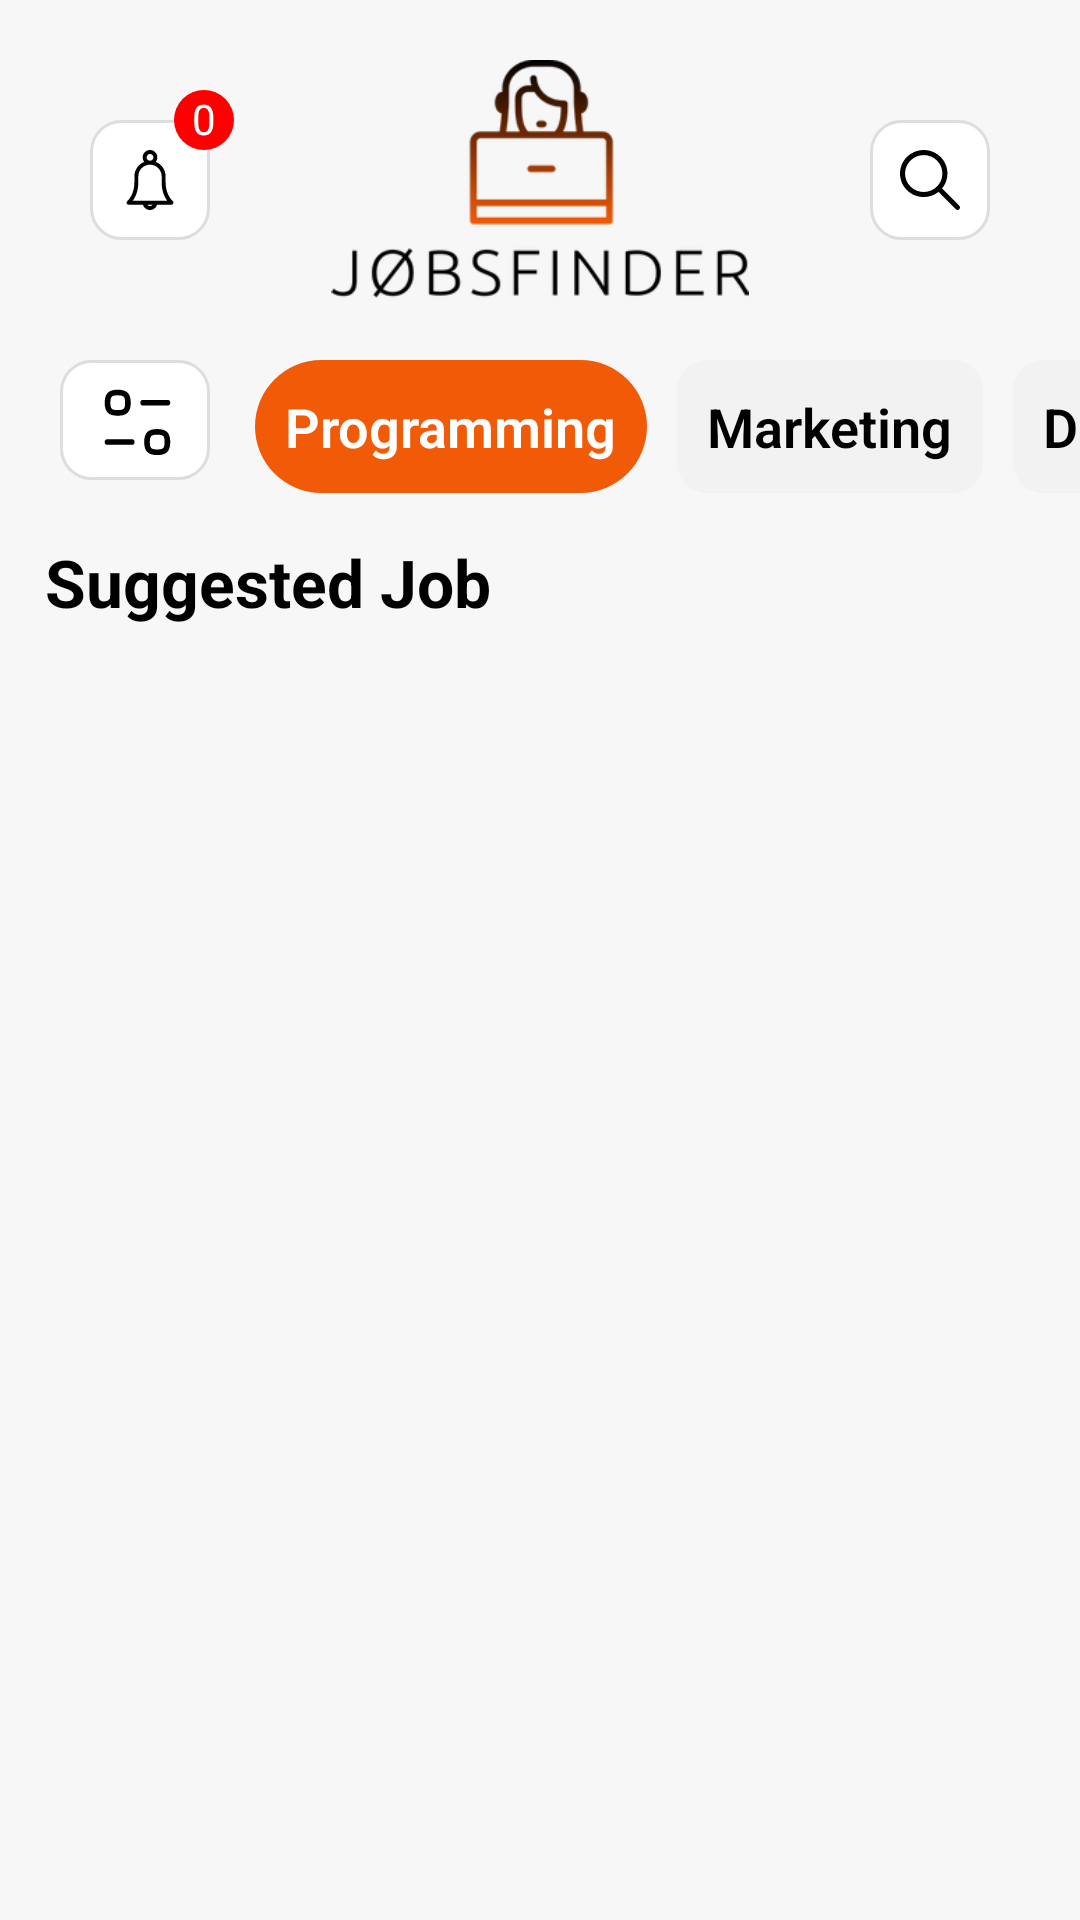

Named icons in this screenshot (1080px×1920px) and their centers, (x,y):
bell: (150,180)
filter: (135,420)
search: (930,180)
